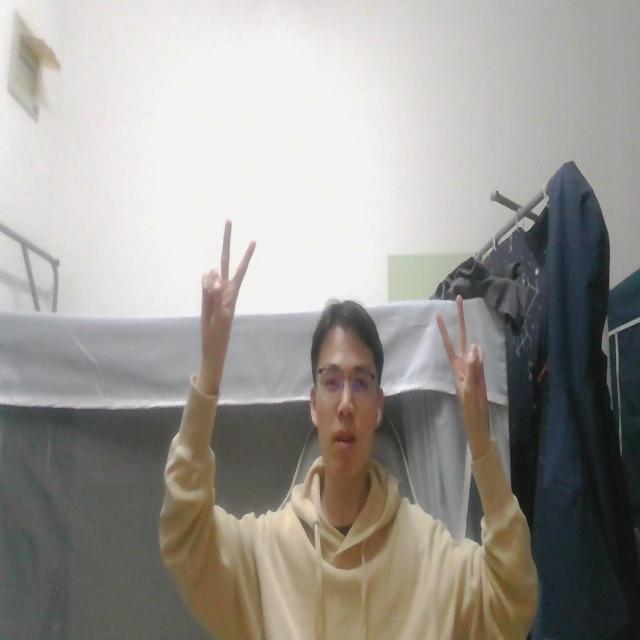yes: (193, 210, 259, 388), (434, 287, 498, 448)
